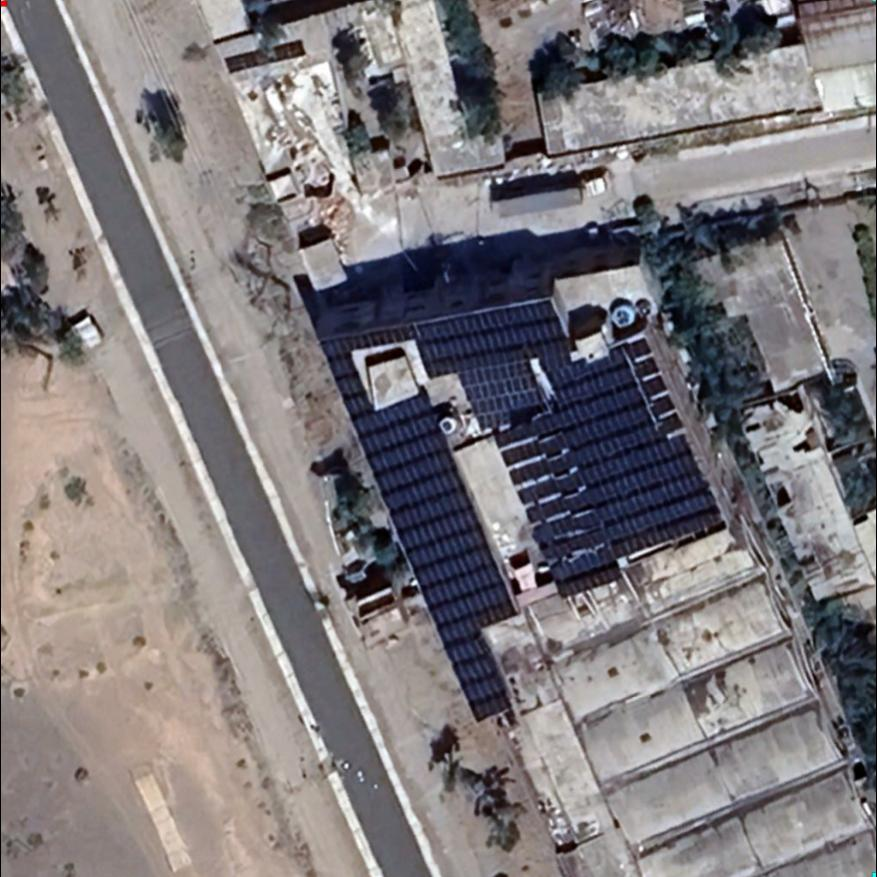Solarpanel: (307, 265, 744, 730)
